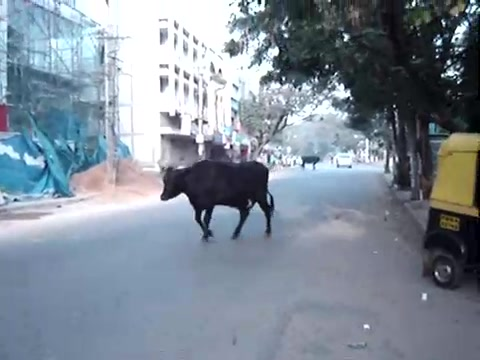cow: (161, 157, 277, 243)
